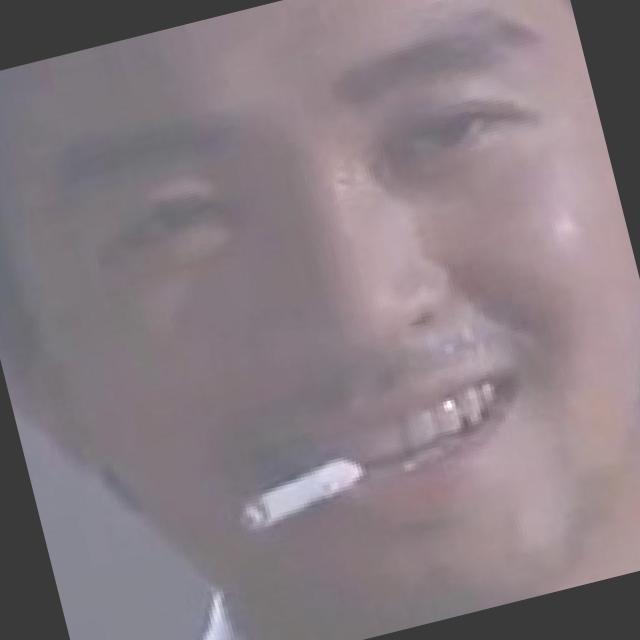smoke: (225, 447, 368, 526)
